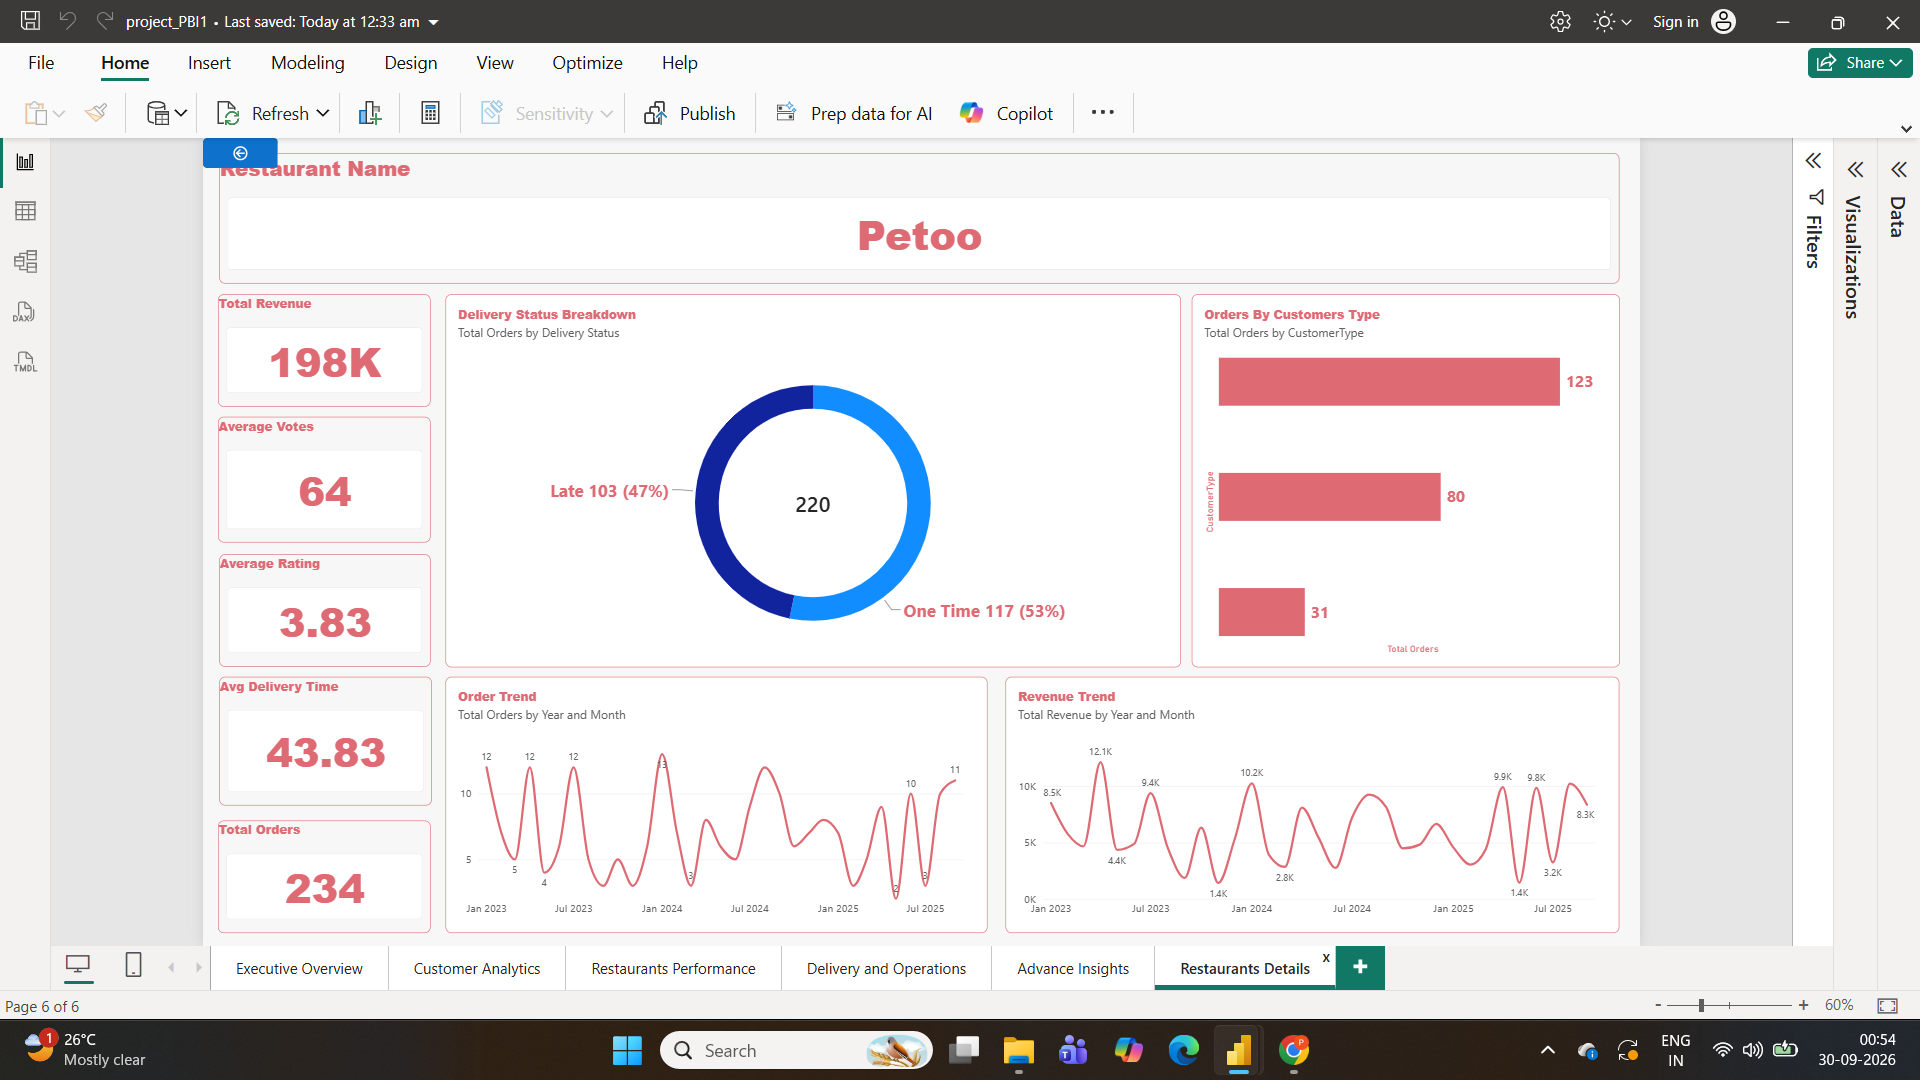

What the dashboard file says about the page in this screenshot:
{"tool":"powerbi","page":{"name":"Restaurants Details","canvas":[1920,1080],"ordinal":5},"visuals":[{"type":"cardVisual","title":"Avg Delivery Time","fields":{"Data":["Orders.Avg Delivery Time"]},"box":[22,720,284,172],"z":0},{"type":"cardVisual","title":"Restaurant Name","fields":{"Data":["Min(Restaurants.name)"]},"box":[22,20,1870,174],"z":1000},{"type":"cardVisual","title":"Average Votes","fields":{"Data":["Orders.Avg Votes"]},"box":[20,372,284,168],"z":2000},{"type":"cardVisual","title":"Average Rating","fields":{"Data":["Orders.Avg Rating"]},"box":[22,556,282,150],"z":3000},{"type":"cardVisual","title":"Total Orders","fields":{"Data":["Orders.Total Orders"]},"box":[20,912,284,150],"z":4000},{"type":"cardVisual","title":"Total Revenue","fields":{"Data":["Orders.Total Revenue"]},"box":[20,208,284,150],"z":5000},{"type":"lineChart","title":"Revenue Trend","fields":{"Category":["DateTable.Date.Variation.Date Hierarchy.Year","DateTable.Date.Variation.Date Hierarchy.Month"],"Y":["Orders.Total Revenue"]},"box":[1072,720,820,342],"z":6000},{"type":"lineChart","title":"Order Trend","fields":{"Category":["DateTable.Date.Variation.Date Hierarchy.Year","DateTable.Date.Variation.Date Hierarchy.Month"],"Y":["Orders.Total Orders"]},"box":[324,720,724,342],"z":7000},{"type":"barChart","title":"Orders By Customers Type","fields":{"Category":["Customers.CustomerType"],"Y":["Orders.Total Orders"]},"box":[1320,208,572,498],"z":8000},{"type":"actionButton","box":[0,0,100,40],"z":9000},{"type":"donutChart","title":"Delivery Status Breakdown","fields":{"Category":["Orders.Delivery Status"],"Y":["Orders.Total Orders"]},"box":[324,208,982,498],"z":10000}]}

Visuals, with their boxes on the page's 1920x1080 design canvas (x1, y1, x2, y2). These are canvas units, not pixel positions in the 1920x1080 screenshot, which may show the page scaled, cropped or inside an application window:
"Avg Delivery Time" cardVisual: left=22, top=720, right=306, bottom=892
"Restaurant Name" cardVisual: left=22, top=20, right=1892, bottom=194
"Average Votes" cardVisual: left=20, top=372, right=304, bottom=540
"Average Rating" cardVisual: left=22, top=556, right=304, bottom=706
"Total Orders" cardVisual: left=20, top=912, right=304, bottom=1062
"Total Revenue" cardVisual: left=20, top=208, right=304, bottom=358
"Revenue Trend" lineChart: left=1072, top=720, right=1892, bottom=1062
"Order Trend" lineChart: left=324, top=720, right=1048, bottom=1062
"Orders By Customers Type" barChart: left=1320, top=208, right=1892, bottom=706
actionButton: left=0, top=0, right=100, bottom=40
"Delivery Status Breakdown" donutChart: left=324, top=208, right=1306, bottom=706
